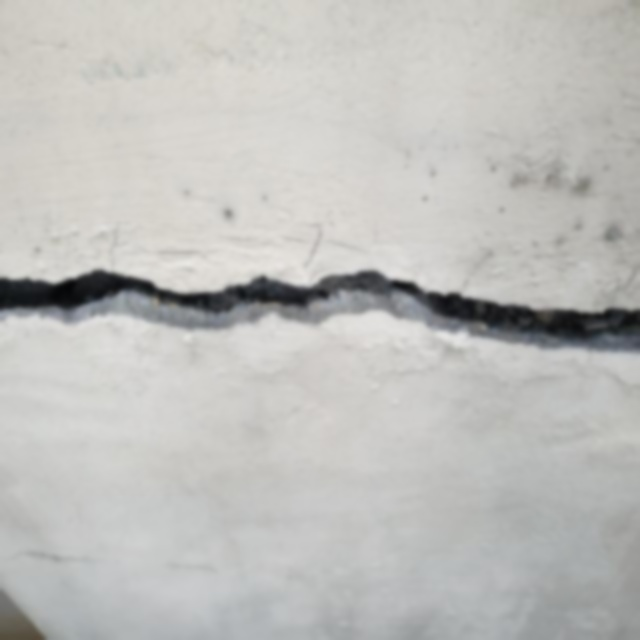SurfaceCrack: (1, 226, 640, 380)
